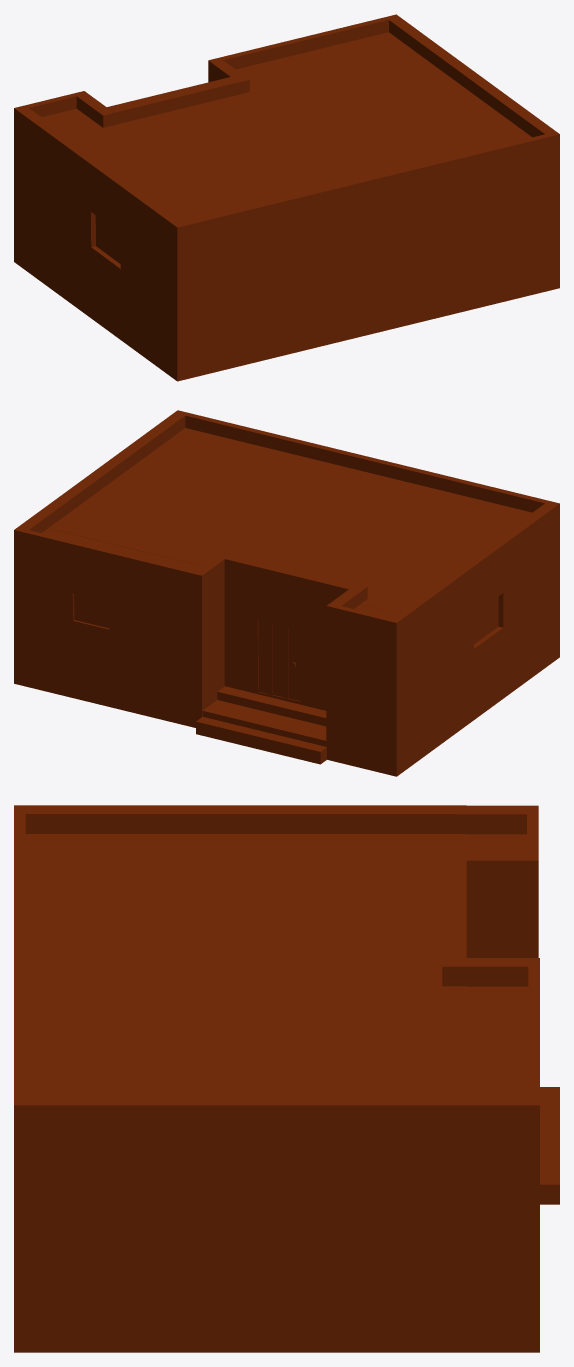
File: Huis.fbx
The picture shows the model from 3 angles, top to bottom: view 1: azimuth 30°, elevation 25°; view 2: azimuth 150°, elevation 25°; view 3: azimuth 270°, elevation 25°; orthographic projection. The views are drawn at different scales.
Visible parts, largest first — view 1: Cube; view 2: Cube; view 3: Cube.
Part boxes in pixels (x1,y1,x2,y2): Cube: [14, 14, 559, 381]; Cube: [14, 410, 559, 776]; Cube: [14, 805, 559, 1352].
Bounding box in the file's own units: 1300 × 500 × 1000.
